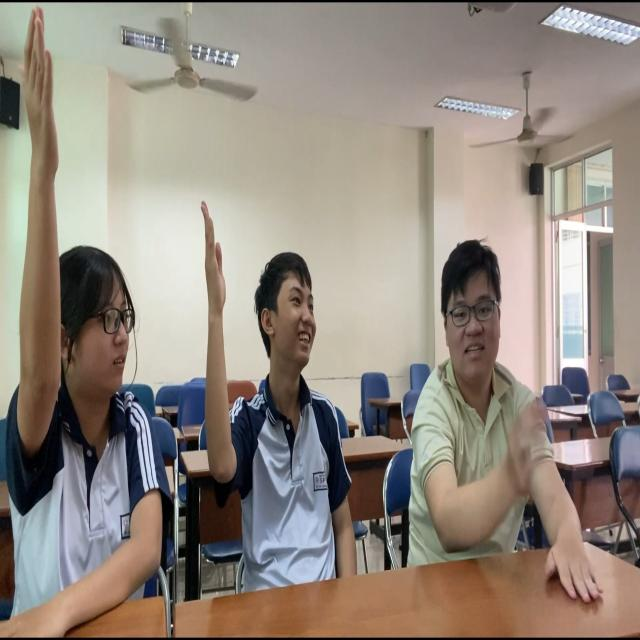raise_hand: (1, 8, 173, 628), (201, 191, 368, 580)
